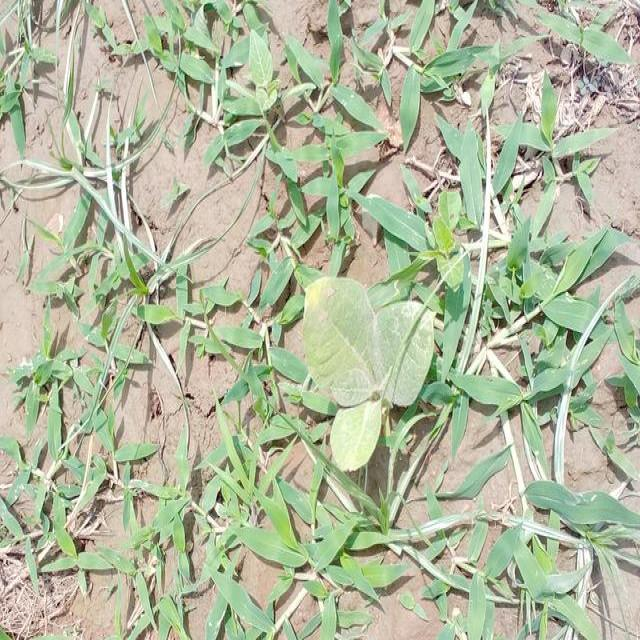crop: (306, 278, 434, 472)
